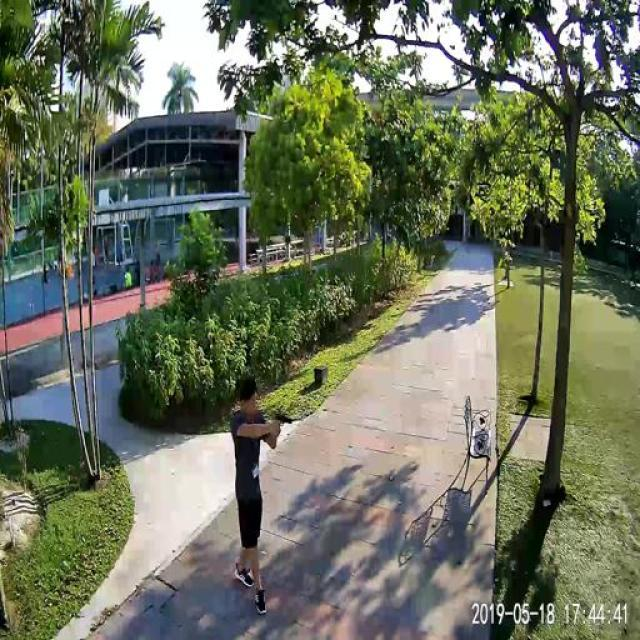Gun: (264, 402, 303, 440)
